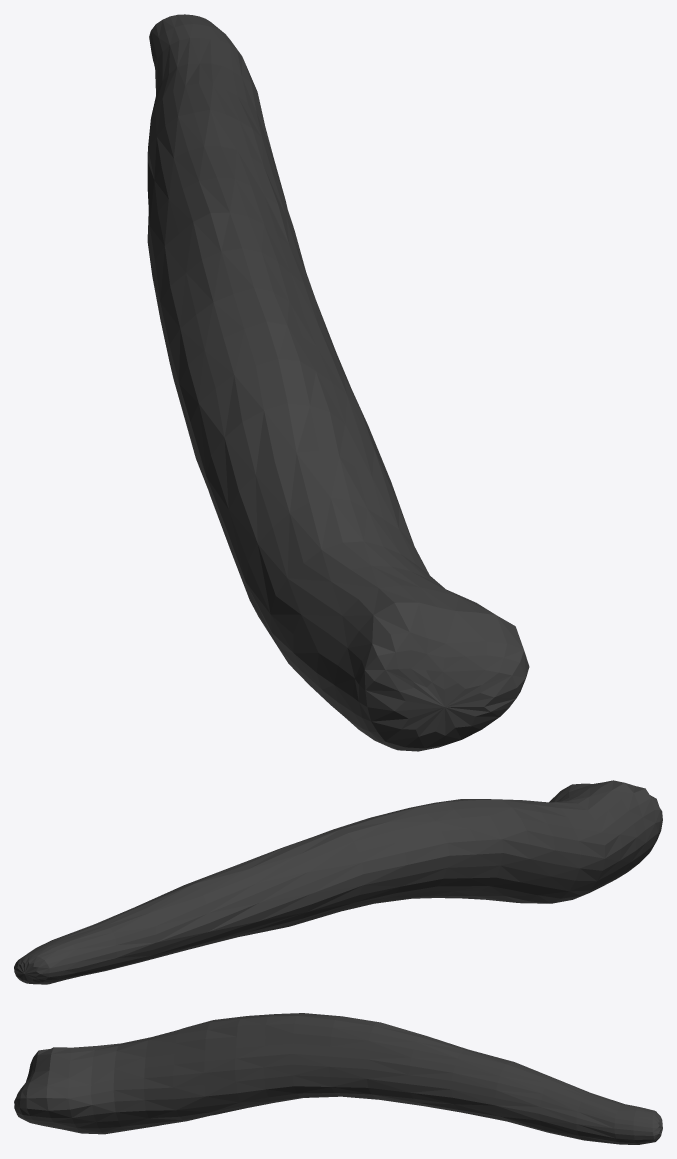
The model's file is UlnaFlexorCarpiUlnaris_1.glb.
3 renders of one model, top to bottom at view 1: azimuth 30°, elevation 25°; view 2: azimuth 150°, elevation 25°; view 3: azimuth 270°, elevation 25°, orthographic. The views are drawn at different scales.
Parts seen in each view (by area): view 1: UlnaFlexorCarpiUlnaris_1; view 2: UlnaFlexorCarpiUlnaris_1; view 3: UlnaFlexorCarpiUlnaris_1.
Boxes of the visible parts, box(x1,y1,x2,y2) form: UlnaFlexorCarpiUlnaris_1: box(147, 14, 529, 751); UlnaFlexorCarpiUlnaris_1: box(14, 780, 662, 984); UlnaFlexorCarpiUlnaris_1: box(14, 1013, 662, 1144).
Bounding box in the file's own units: 0.00695 × 0.00384 × 0.0166.
1 material, 1 textured.
